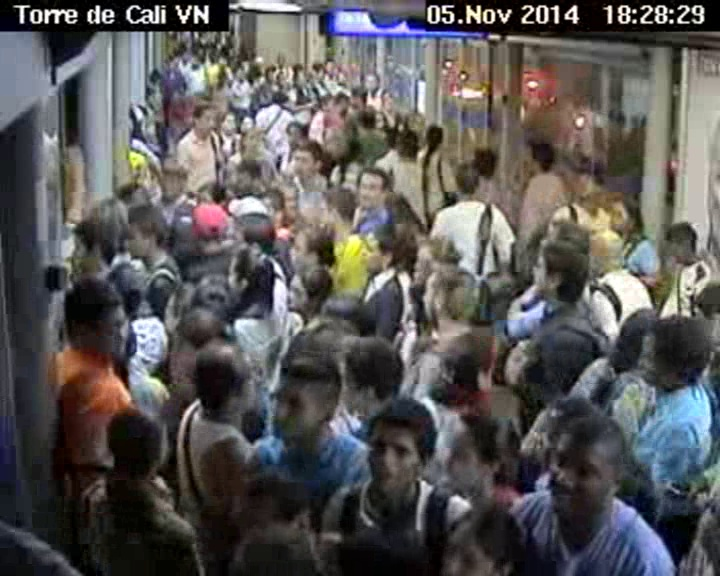person: (539, 411, 626, 521), (633, 309, 715, 401), (269, 344, 339, 447), (357, 398, 432, 494), (223, 460, 315, 537), (429, 403, 505, 496), (56, 271, 126, 364), (441, 508, 531, 576), (192, 336, 258, 419), (531, 233, 596, 309), (342, 332, 404, 406), (434, 330, 497, 397), (103, 406, 168, 470), (609, 303, 657, 379), (223, 238, 277, 304), (418, 262, 472, 326), (171, 301, 236, 354), (120, 204, 173, 268), (75, 216, 123, 279), (277, 261, 333, 314), (185, 198, 235, 256), (353, 225, 408, 277), (409, 232, 457, 282), (353, 162, 395, 216), (311, 185, 355, 234), (281, 226, 333, 266), (604, 191, 643, 241), (662, 216, 704, 262), (284, 142, 324, 186), (193, 179, 235, 215), (570, 168, 604, 211), (229, 159, 267, 197), (524, 136, 556, 176), (450, 161, 482, 199), (160, 158, 190, 198), (475, 142, 500, 180), (339, 133, 367, 164), (394, 125, 422, 155), (239, 127, 264, 160), (423, 119, 447, 152), (193, 102, 217, 134), (283, 119, 304, 146), (237, 111, 258, 137), (364, 70, 384, 95), (217, 108, 236, 134), (267, 86, 288, 108), (321, 56, 338, 81), (330, 93, 349, 115), (359, 105, 378, 126), (292, 68, 307, 89), (233, 64, 249, 83), (311, 61, 324, 83), (263, 63, 274, 85), (217, 64, 230, 80), (146, 70, 161, 83), (277, 69, 287, 87)
